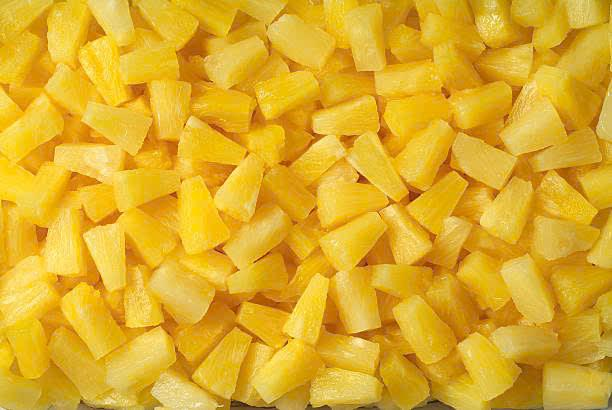pineapple: (4, 4, 283, 270), (361, 126, 612, 410)
